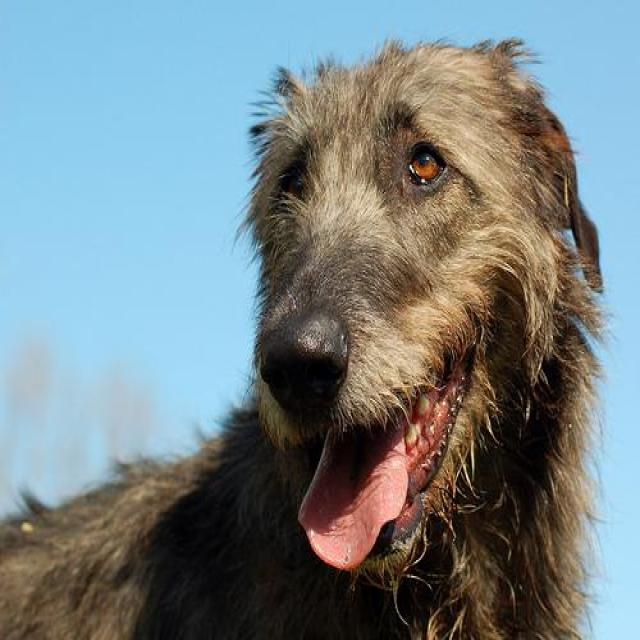irish_wolfhound: (0, 37, 613, 638)
